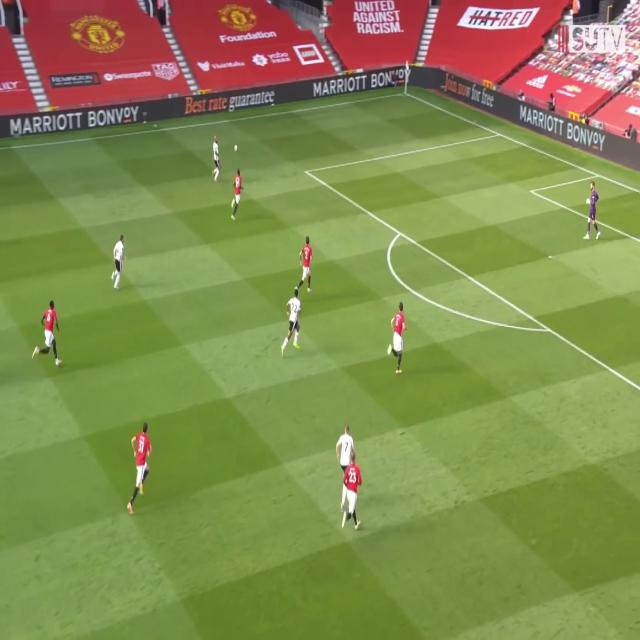ball: (233, 144, 238, 153)
team1: (128, 426, 152, 515), (342, 455, 362, 529), (39, 302, 61, 368), (392, 304, 408, 374), (297, 238, 313, 296), (230, 169, 243, 220)
team2: (283, 289, 304, 354), (334, 420, 352, 476), (113, 234, 128, 289), (212, 138, 223, 184)
